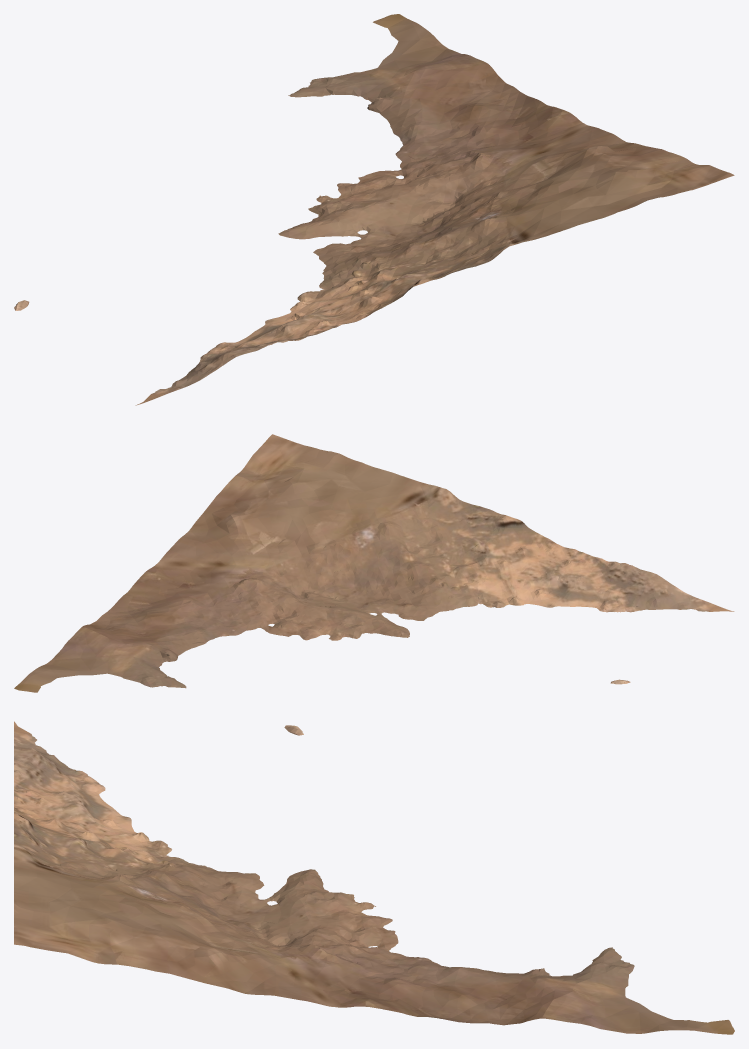
3 renders of one model, top to bottom at view 1: azimuth 30°, elevation 25°; view 2: azimuth 150°, elevation 25°; view 3: azimuth 270°, elevation 25°, orthographic. The views are drawn at different scales.
Bounding box in the file's own units: 1.04 × 0.14 × 1.01.
Materials: 1 (1 with a texture image).
